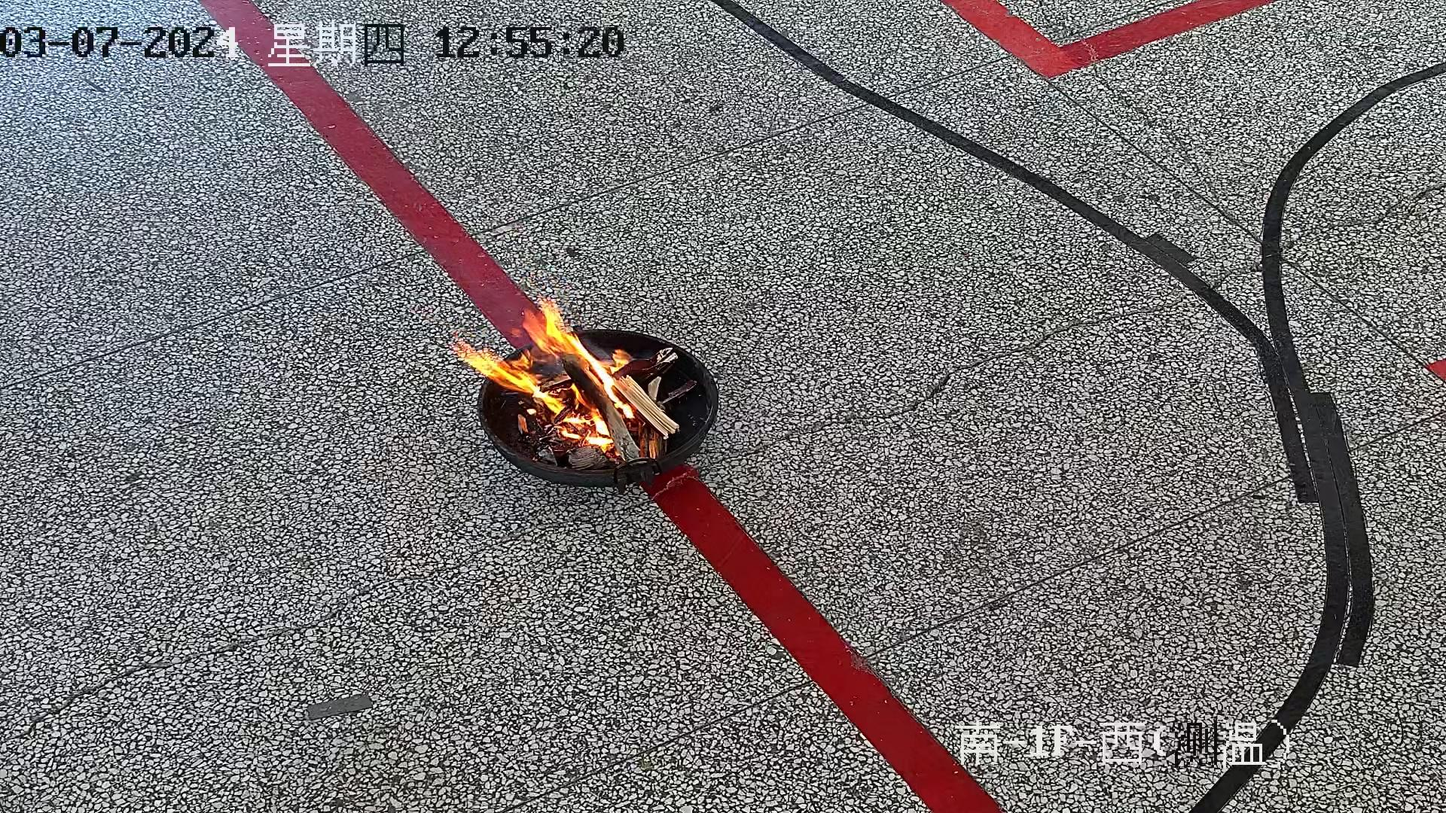fire: (453, 298, 642, 459)
